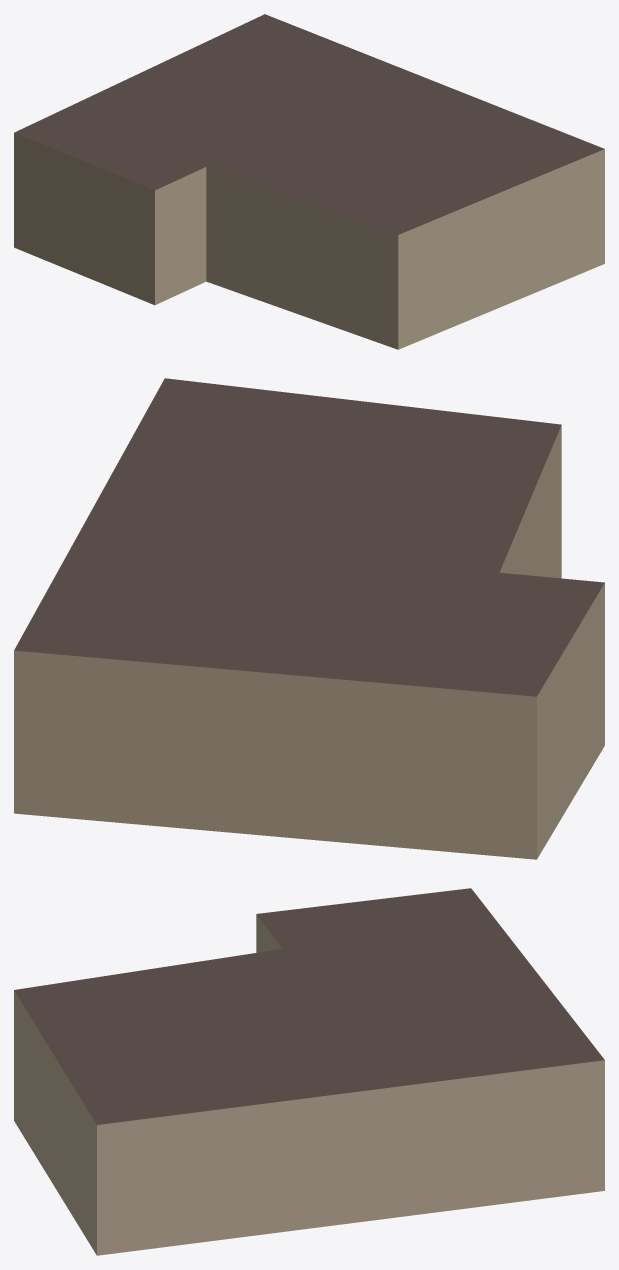
3 views of the same model, one above another, from view 1: azimuth 30°, elevation 25°; view 2: azimuth 150°, elevation 25°; view 3: azimuth 270°, elevation 25° (orthographic). The views are drawn at different scales.
Parts seen in each view (by area): view 1: HP-w1516161938; view 2: HP-w1516161938; view 3: HP-w1516161938.
Part boxes in pixels (<box>): HP-w1516161938: <box>14,14,604,349</box>; HP-w1516161938: <box>14,378,604,859</box>; HP-w1516161938: <box>14,888,604,1255</box>.
Size of the model in its own units: 34.98 by 9 by 36.88.
